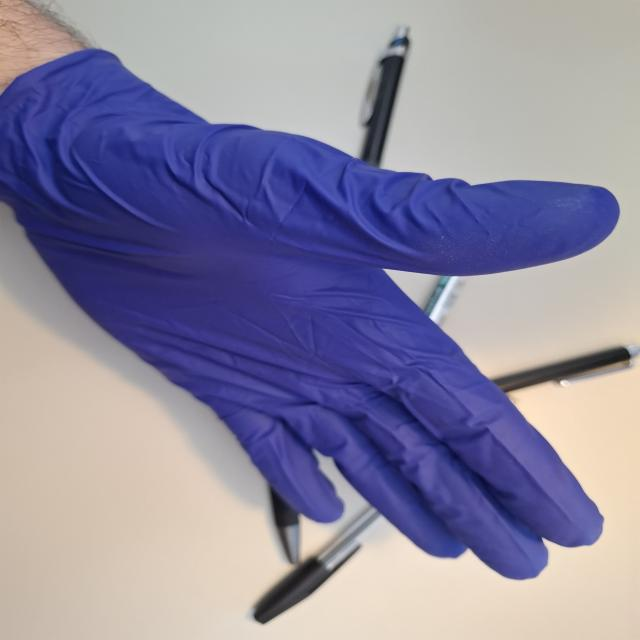glove_on: (0, 42, 626, 583)
